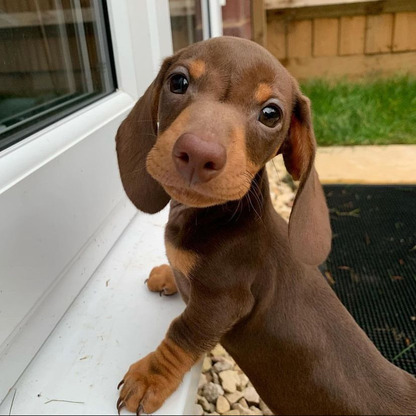dachshund: (94, 27, 366, 388)
